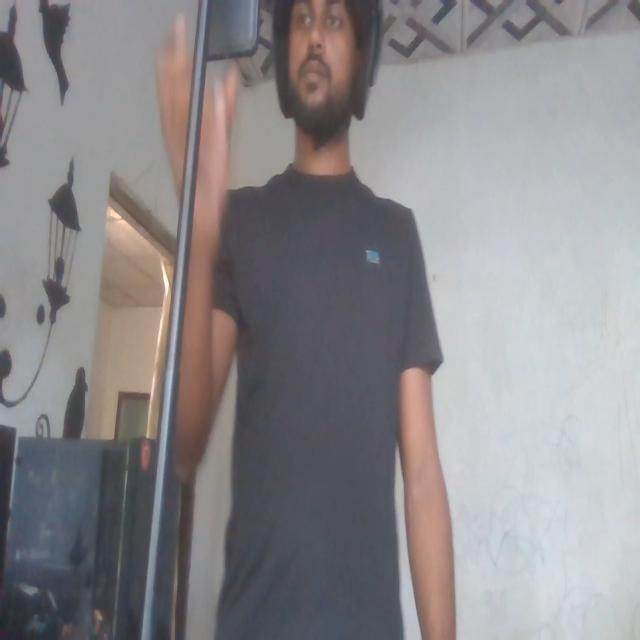Helmet_Wearer: (263, 0, 399, 164)
Person: (168, 0, 452, 640)
